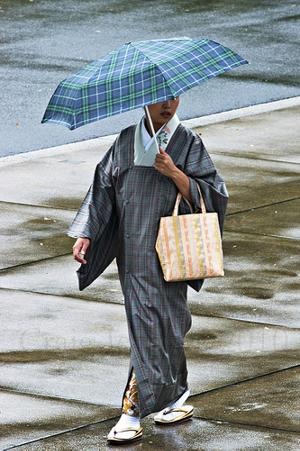person: (66, 97, 229, 448)
